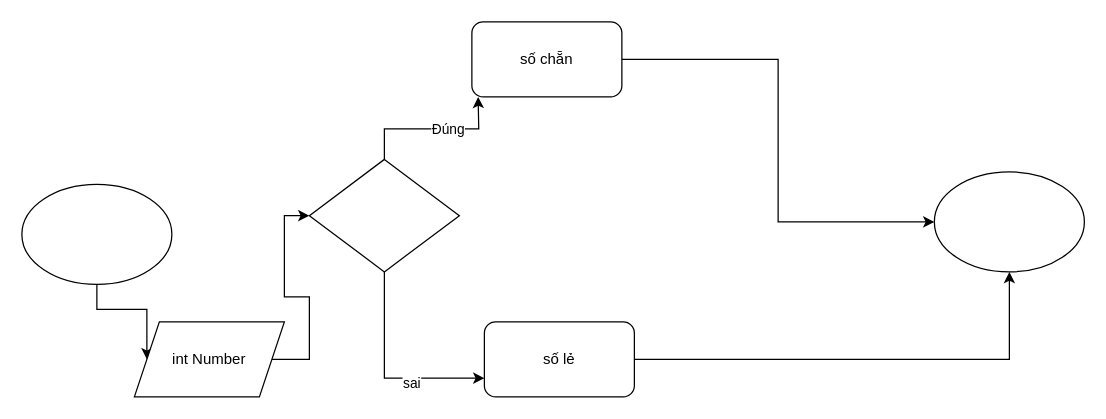
The diagram is 1106 pixels wide and 419 high, and some of its shapes have lost their labels. Each missing label, with the centre of its shape:
if % 2==0: [383,215]
star: [96,233]
